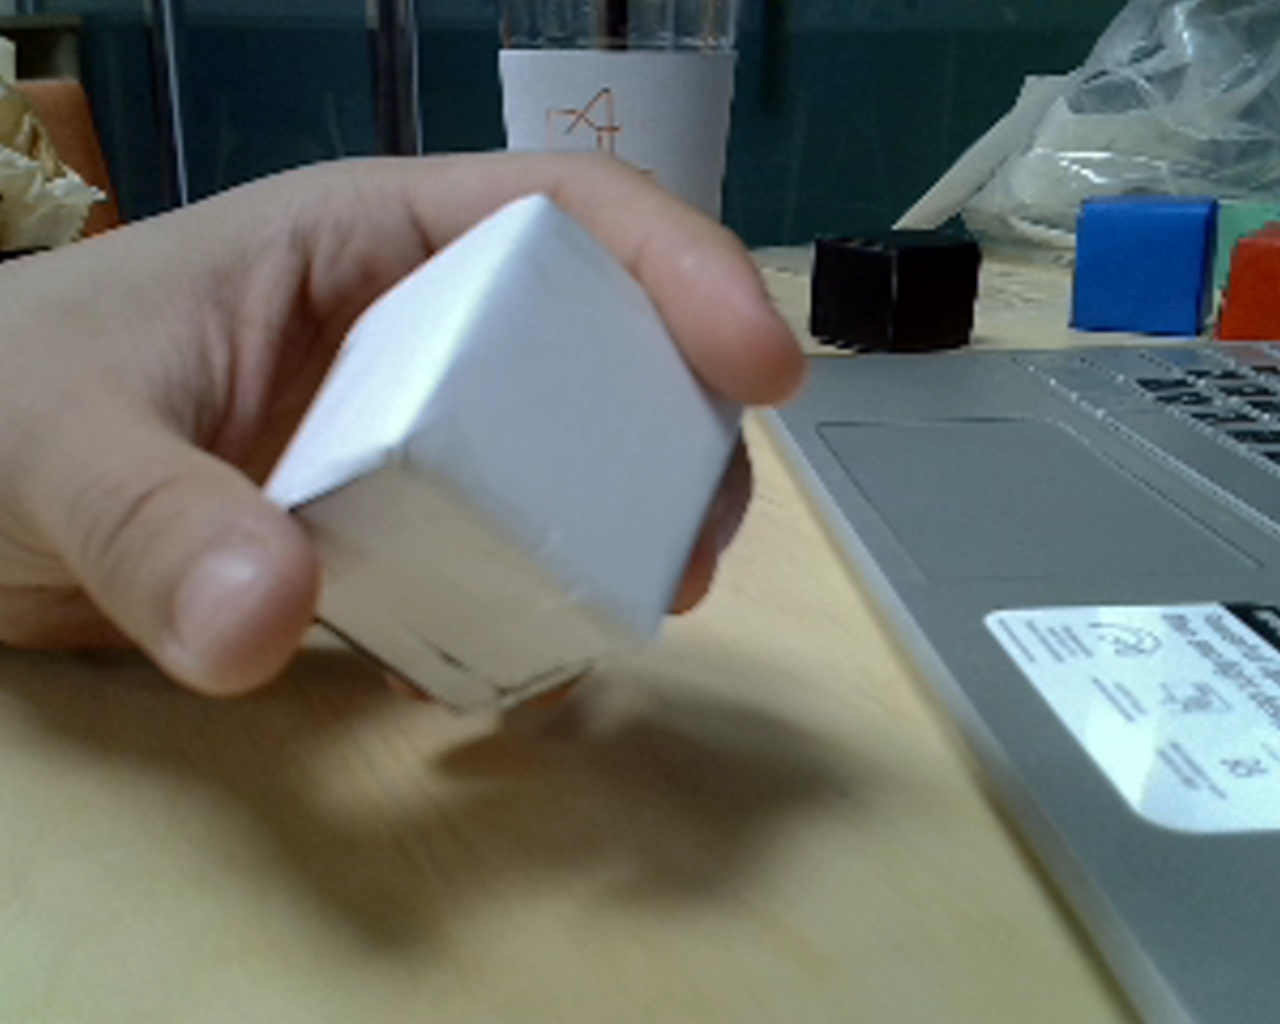whitebox: (226, 163, 781, 752)
